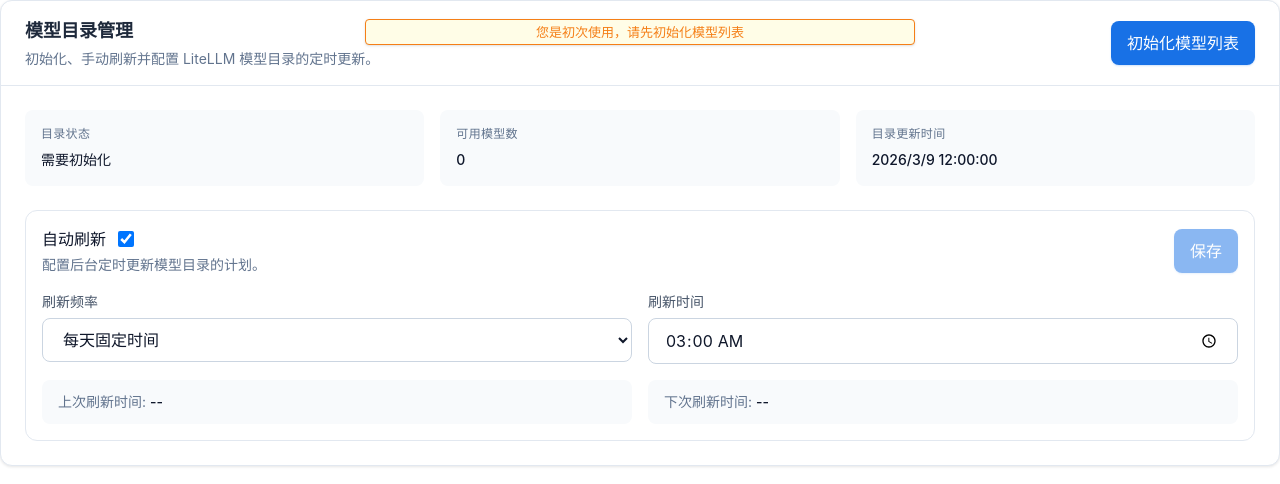
Test: ModelCatalogManager › switches from time input to interval input for interval schedules
The image size is (1280, 484).
Select "每隔 X 天" in the dropdown at {"x": 337, "y": 340}, box [42,318,632,362]
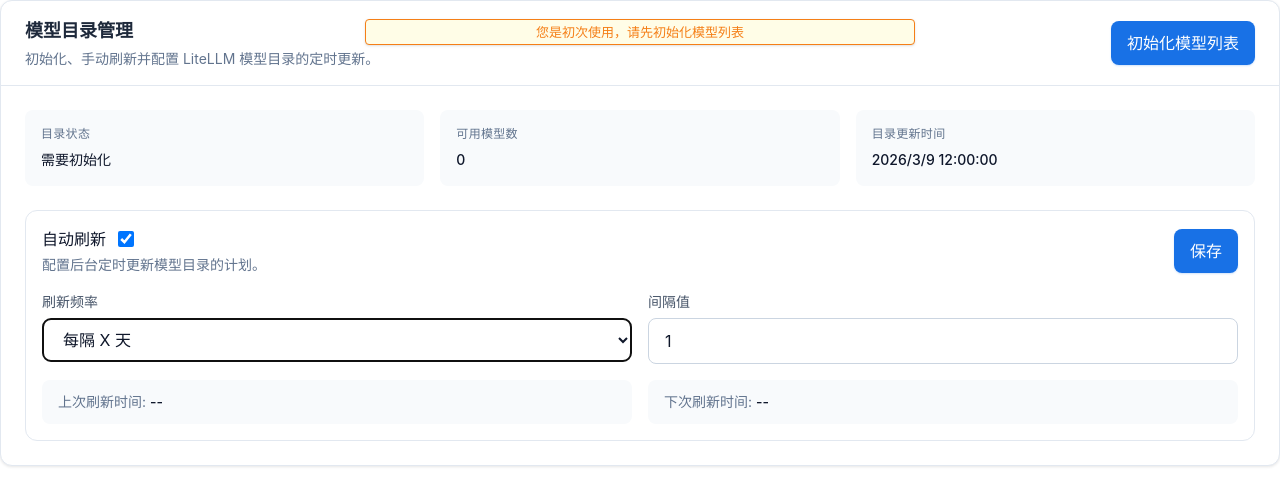
Expected: the number field is shown, [648,318,1238,364]
Now the text "间隔值" is shown, box [648,293,690,310]
